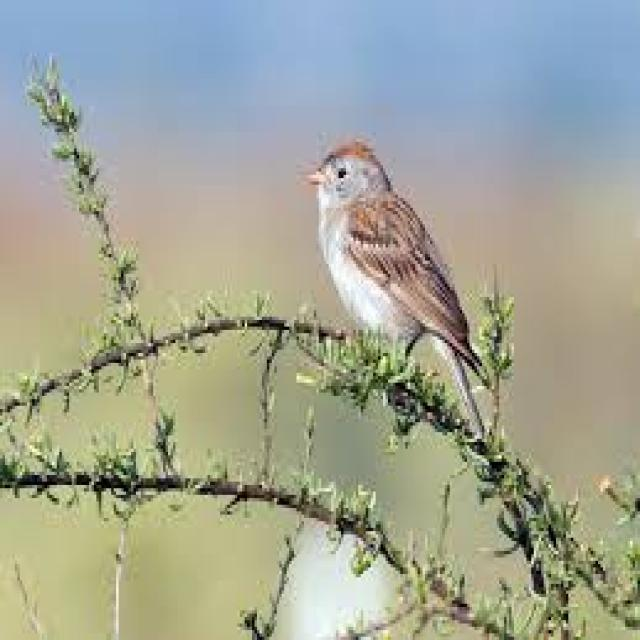bird: (273, 126, 517, 361)
